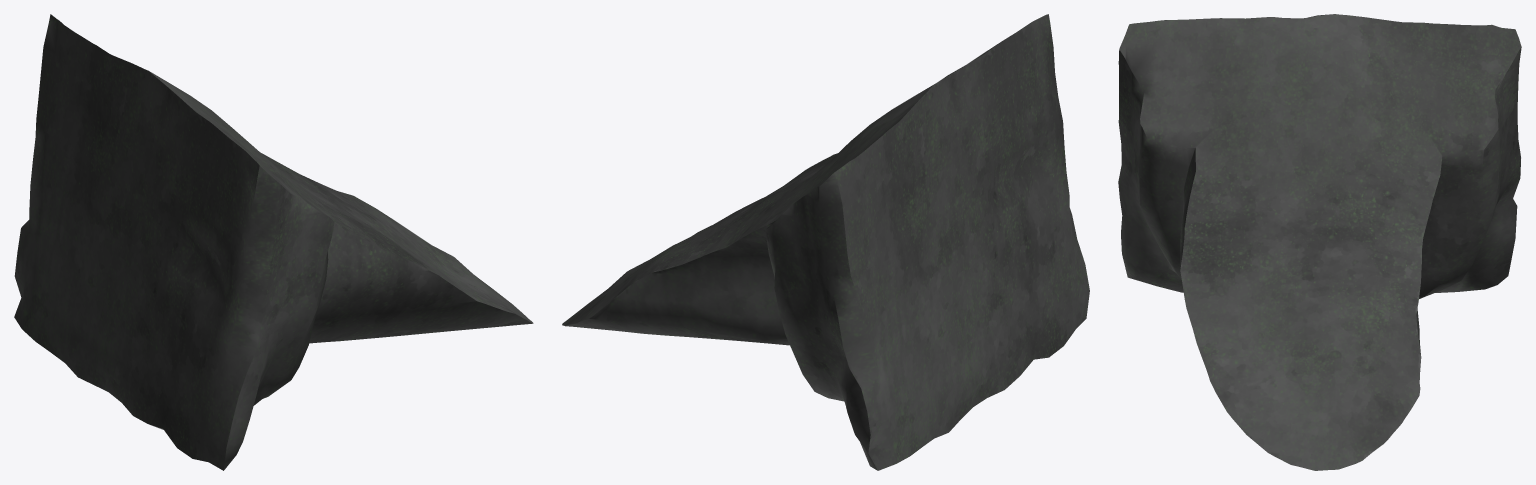
Rendered from Stone Pillar - Broken Base 2 (Game Ready).fbx.
3 views of the same model, side by side, from view 1: azimuth 30°, elevation 25°; view 2: azimuth 150°, elevation 25°; view 3: azimuth 270°, elevation 25° (orthographic). The views are drawn at different scales.
Visible parts, largest first — view 1: Stone Pillar - Broken Base 2; view 2: Stone Pillar - Broken Base 2; view 3: Stone Pillar - Broken Base 2.
Part boxes in pixels (left/top/right/bottom): Stone Pillar - Broken Base 2: left=14, top=14, right=533, bottom=470; Stone Pillar - Broken Base 2: left=562, top=14, right=1089, bottom=470; Stone Pillar - Broken Base 2: left=1118, top=14, right=1521, bottom=470.
Size of the model in its own units: 119 by 90.34 by 112.
Materials: 1 (1 with a texture image).
